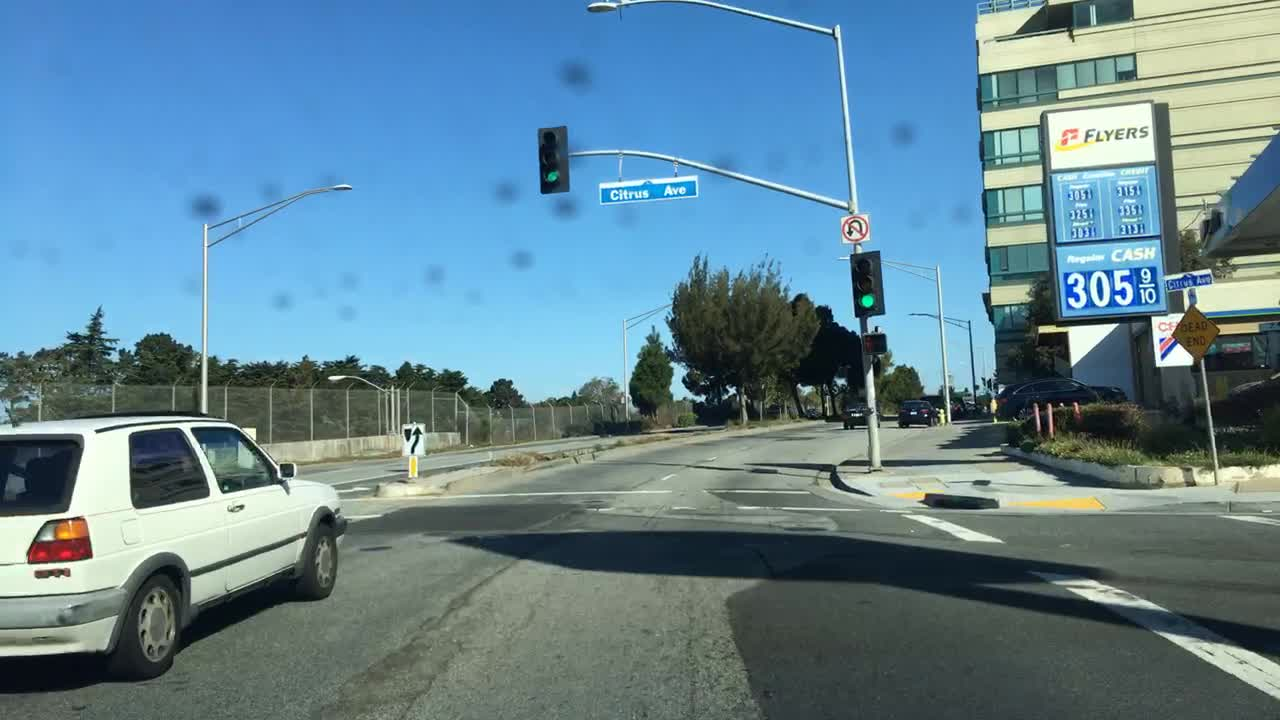car: (0, 412, 349, 681), (990, 379, 1124, 419), (895, 398, 937, 427), (839, 400, 878, 429)
traffic light: (536, 123, 570, 197), (848, 252, 882, 316)
traffic sign: (597, 173, 698, 207), (1170, 301, 1219, 359), (1160, 269, 1212, 293), (401, 421, 424, 456), (840, 213, 865, 242)
